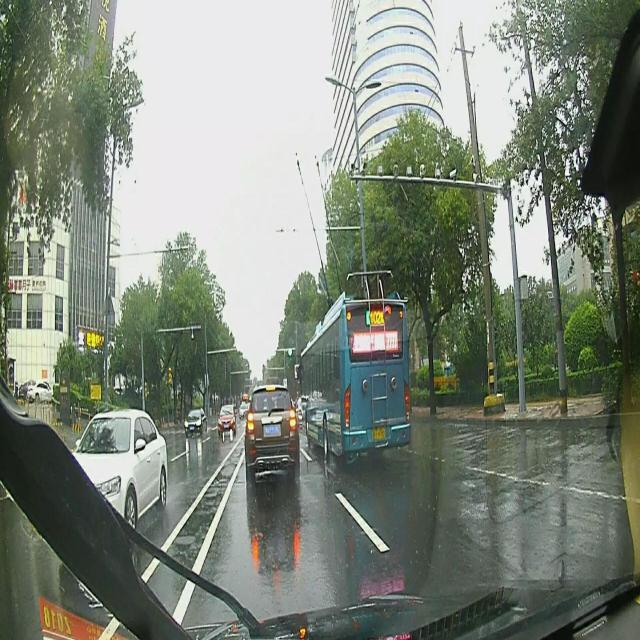car: (61, 410, 168, 534), (244, 382, 302, 478), (26, 376, 58, 399), (219, 401, 238, 434), (183, 408, 204, 436)
